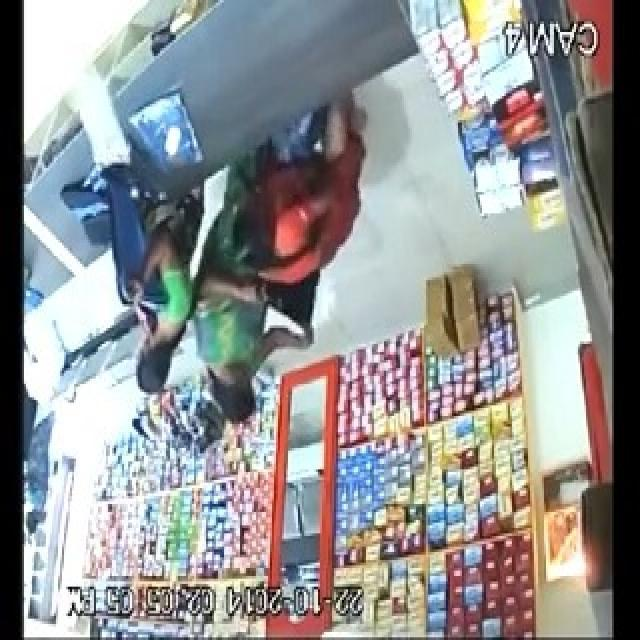Shoplifting: (227, 98, 367, 286)
